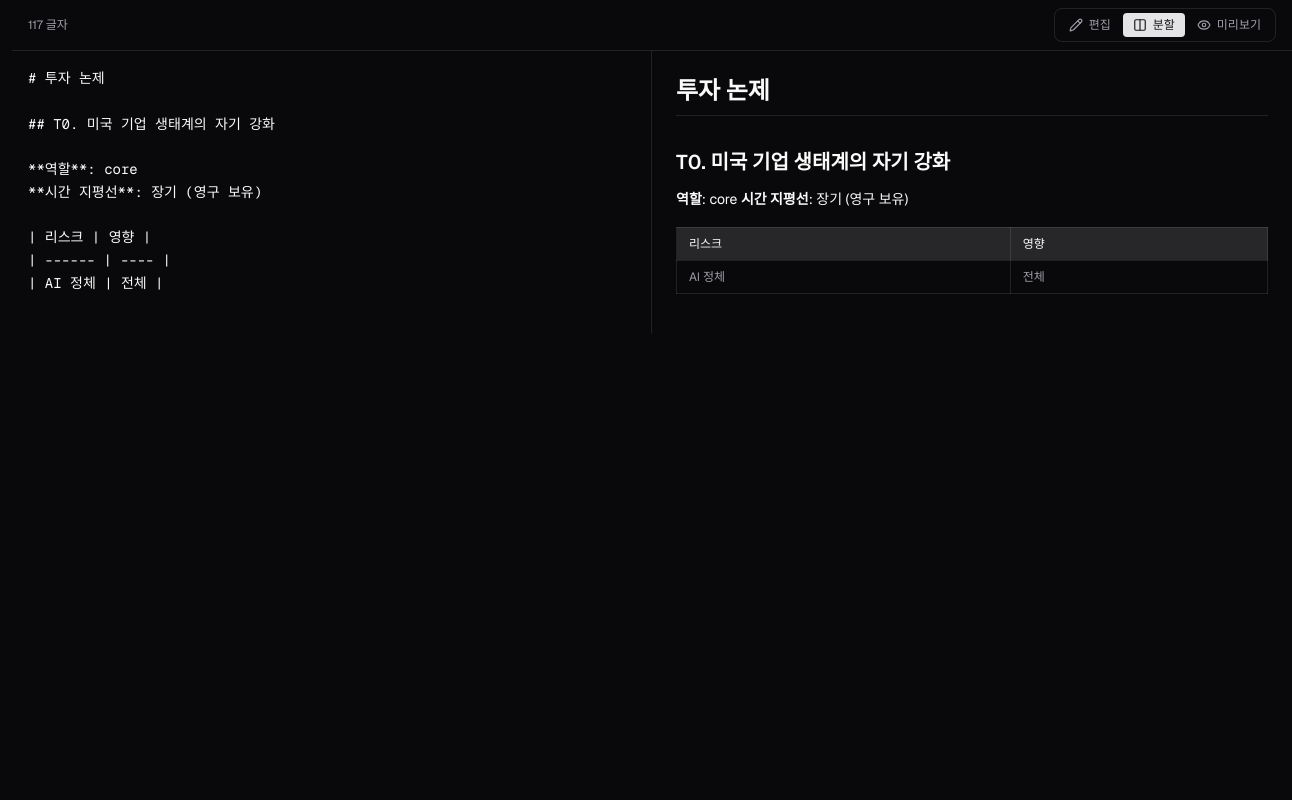
Test: ThesesEditor › 편집과 저장 › 저장 성공 후 dirty 상태가 해제된다
In the text box with test id "theses-textarea": (332, 192) [12, 51, 651, 334], type " 수정됨"
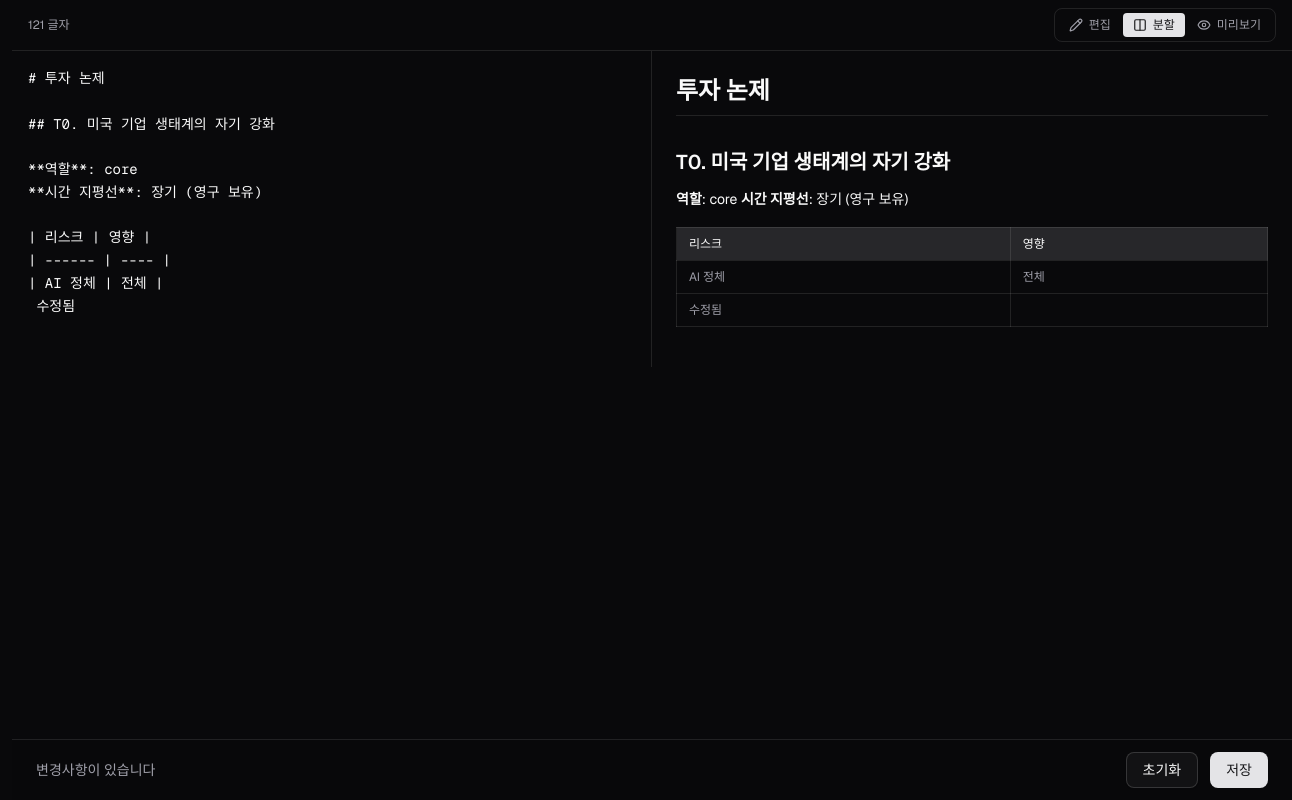
Click the button "저장": (1239, 770) [1210, 752, 1268, 788]
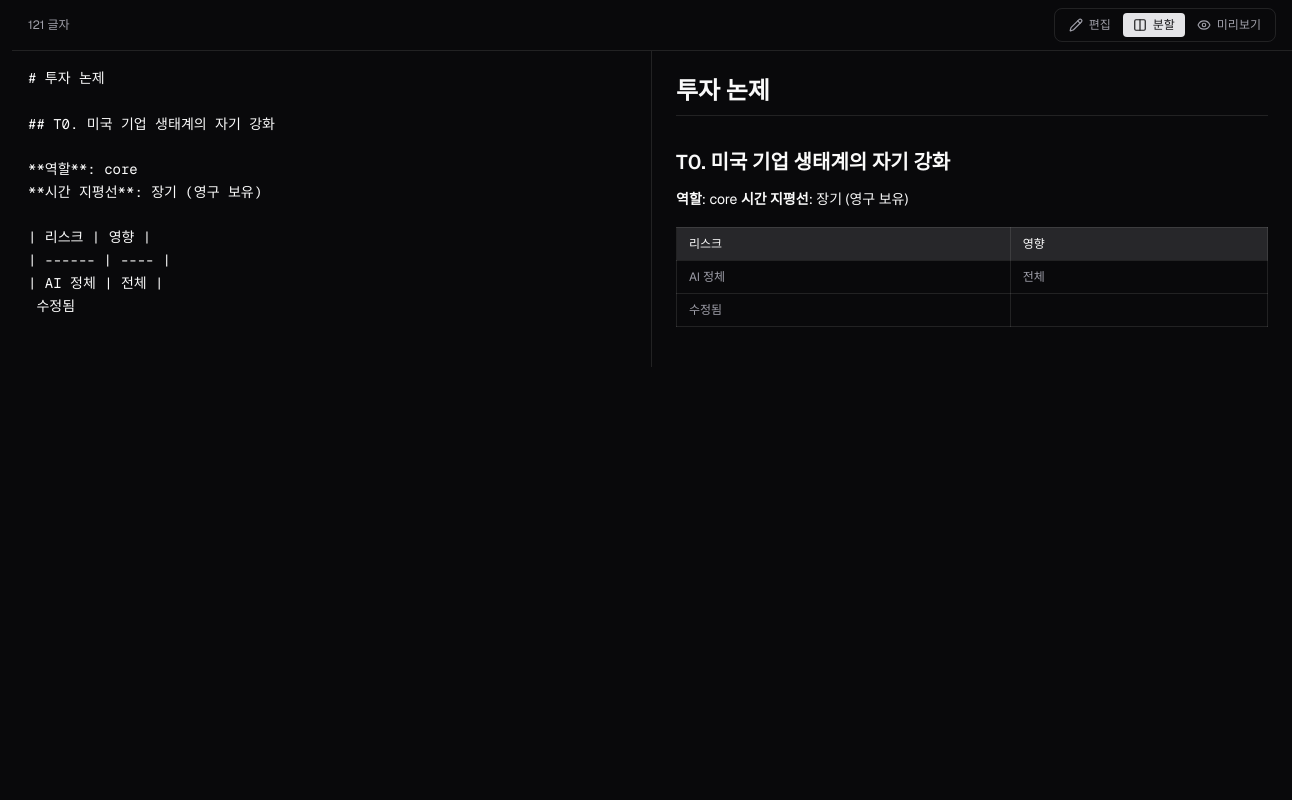
Check: the text "변경사항이 있습니다" is gone
